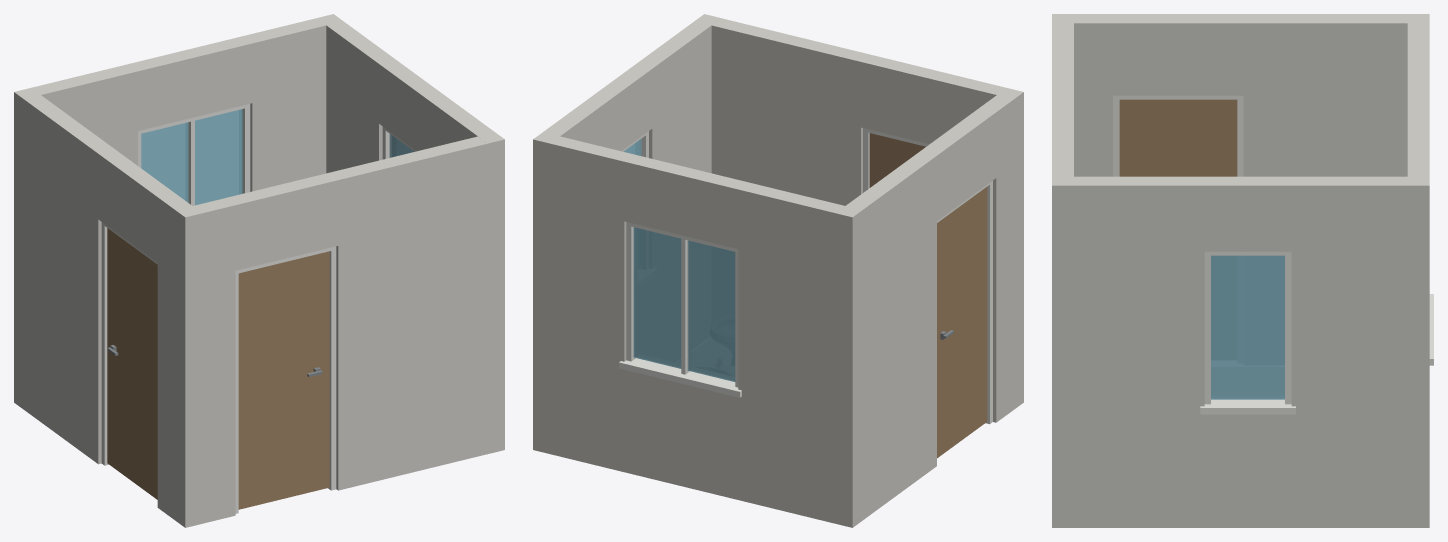
The model's file is layoutgpt.glb.
3 views of the same model, side by side, from view 1: azimuth 30°, elevation 25°; view 2: azimuth 150°, elevation 25°; view 3: azimuth 270°, elevation 25° (orthographic). The views are drawn at different scales.
Parts seen in each view (by area): view 1: wall|scenesmith_100__R00|0, wall|scenesmith_100__R00|2, wall|scenesmith_100__R00|1, wall|scenesmith_100__R00|0 Door 0 | wood leaf, wall|scenesmith_100__R00|3, wall|scenesmith_100__R00|2 Door 0 | wood leaf, wall|scenesmith_100__R00|1 Window 0 | glazing, wall|scenesmith_100__R00|0 Door 0 | jamb, wall|scenesmith_100__R00|1 Window 0 | jamb, wall|scenesmith_100__R00|2 Door 0 | jamb; view 2: wall|scenesmith_100__R00|1, wall|scenesmith_100__R00|2, wall|scenesmith_100__R00|0, wall|scenesmith_100__R00|3, wall|scenesmith_100__R00|1 Window 0 | glazing, wall|scenesmith_100__R00|2 Door 0 | wood leaf, wall|scenesmith_100__R00|1 Window 0 | jamb, wall|scenesmith_100__R00|0 Door 0 | wood leaf, wall|scenesmith_100__R00|2 Door 0 | jamb, wall|scenesmith_100__R00|0 Door 0 | jamb; view 3: wall|scenesmith_100__R00|3, wall|scenesmith_100__R00|2, wall|scenesmith_100__R00|1, wall|scenesmith_100__R00|0, wall|scenesmith_100__R00|3 Window 0 | glazing, wall|scenesmith_100__R00|2 Door 0 | wood leaf, wall|scenesmith_100__R00|3 Window 0 | jamb, wall|scenesmith_100__R00|2 Door 0 | jamb.
Boxes of the visible parts, <box> form: wall|scenesmith_100__R00|0: <box>175,136,487,527</box>; wall|scenesmith_100__R00|2: <box>24,95,202,527</box>; wall|scenesmith_100__R00|1: <box>14,14,341,409</box>; wall|scenesmith_100__R00|0 Door 0 | wood leaf: <box>238,251,329,509</box>; wall|scenesmith_100__R00|3: <box>317,14,504,453</box>; wall|scenesmith_100__R00|2 Door 0 | wood leaf: <box>107,228,157,499</box>; wall|scenesmith_100__R00|1 Window 0 | glazing: <box>141,109,242,205</box>; wall|scenesmith_100__R00|0 Door 0 | jamb: <box>235,246,336,513</box>; wall|scenesmith_100__R00|1 Window 0 | jamb: <box>138,104,250,205</box>; wall|scenesmith_100__R00|2 Door 0 | jamb: <box>101,222,157,465</box>; wall|scenesmith_100__R00|1: <box>533,132,862,527</box>; wall|scenesmith_100__R00|2: <box>835,88,1023,527</box>; wall|scenesmith_100__R00|0: <box>711,18,1023,409</box>; wall|scenesmith_100__R00|3: <box>533,14,720,453</box>; wall|scenesmith_100__R00|1 Window 0 | glazing: <box>633,227,735,381</box>; wall|scenesmith_100__R00|2 Door 0 | wood leaf: <box>937,187,987,458</box>; wall|scenesmith_100__R00|1 Window 0 | jamb: <box>619,222,741,397</box>; wall|scenesmith_100__R00|0 Door 0 | wood leaf: <box>869,133,925,187</box>; wall|scenesmith_100__R00|2 Door 0 | jamb: <box>937,180,992,424</box>; wall|scenesmith_100__R00|0 Door 0 | jamb: <box>863,128,928,192</box>; wall|scenesmith_100__R00|3: <box>1052,176,1429,527</box>; wall|scenesmith_100__R00|2: <box>1052,14,1407,176</box>; wall|scenesmith_100__R00|1: <box>1407,14,1429,527</box>; wall|scenesmith_100__R00|0: <box>1052,23,1073,527</box>; wall|scenesmith_100__R00|3 Window 0 | glazing: <box>1211,255,1284,399</box>; wall|scenesmith_100__R00|2 Door 0 | wood leaf: <box>1119,99,1237,176</box>; wall|scenesmith_100__R00|3 Window 0 | jamb: <box>1200,251,1295,414</box>; wall|scenesmith_100__R00|2 Door 0 | jamb: <box>1113,95,1243,176</box>.
Size of the model in its own units: 2.83 by 2.61 by 2.63.
